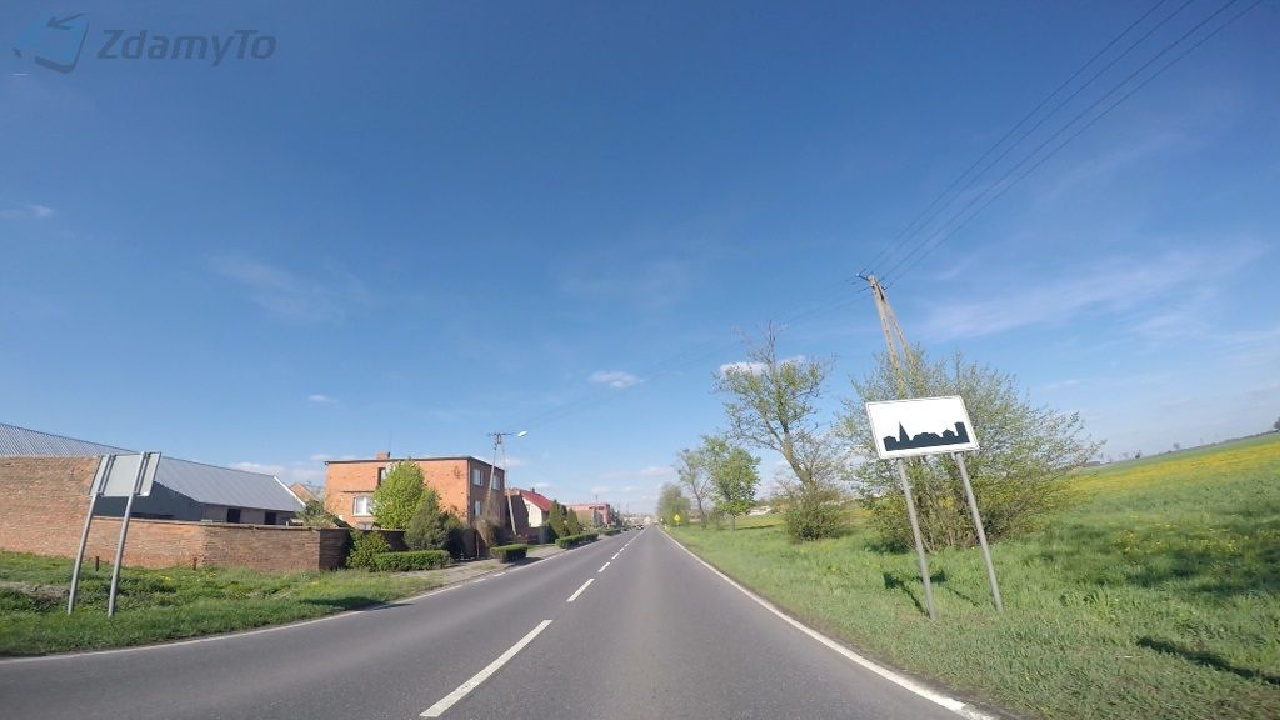D42: (866, 394, 982, 458)
